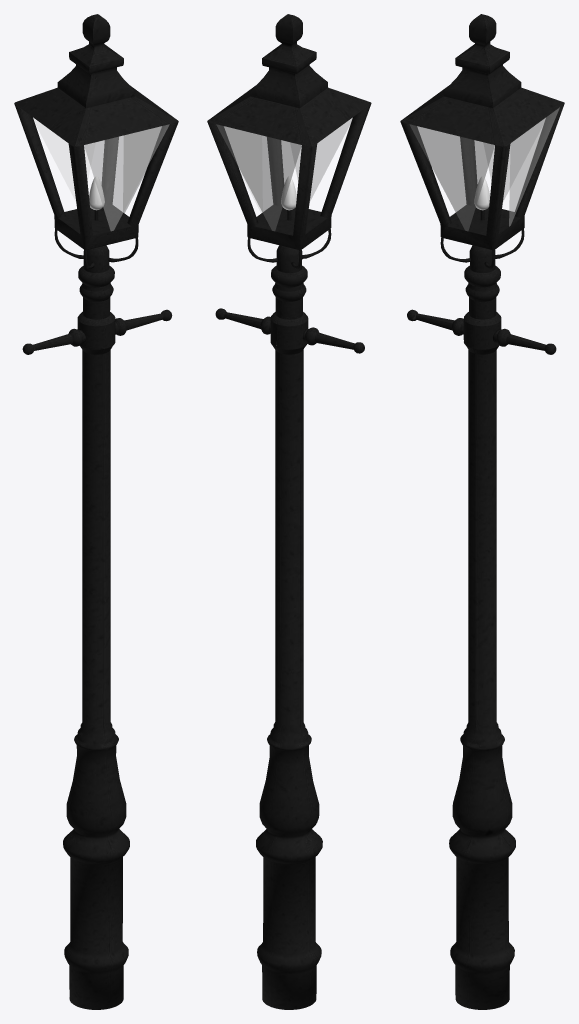
The model's file is lamp_post_english.glb.
3 renders of one model, left to right at view 1: azimuth 30°, elevation 25°; view 2: azimuth 150°, elevation 25°; view 3: azimuth 330°, elevation 25°, orthographic.
Visible parts, largest first — view 1: Object_4, Object_2, Object_3; view 2: Object_4, Object_2, Object_3; view 3: Object_4, Object_2, Object_3.
Part boxes in pixels (<box>): Object_4: <box>14,14,178,1009</box>; Object_2: <box>33,117,169,231</box>; Object_3: <box>89,176,104,210</box>; Object_4: <box>207,14,371,1009</box>; Object_2: <box>216,118,352,231</box>; Object_3: <box>281,176,296,210</box>; Object_4: <box>400,14,564,1009</box>; Object_2: <box>409,107,559,231</box>; Object_3: <box>474,176,489,210</box>.
Bounding box in the file's own units: 1.41 × 9.05 × 1.02.
3 materials, 1 textured.
